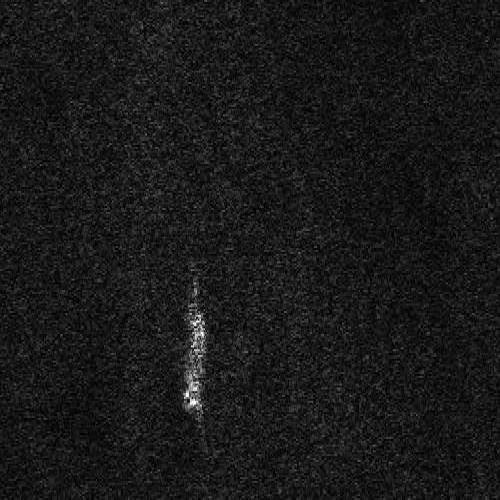ship: (181, 309, 208, 413)
